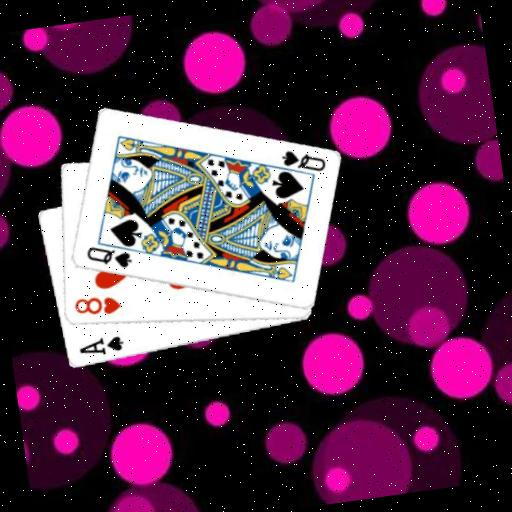8H: (71, 290, 124, 320)
AS: (74, 332, 127, 361)
QS: (81, 238, 134, 275), (277, 143, 328, 179)
